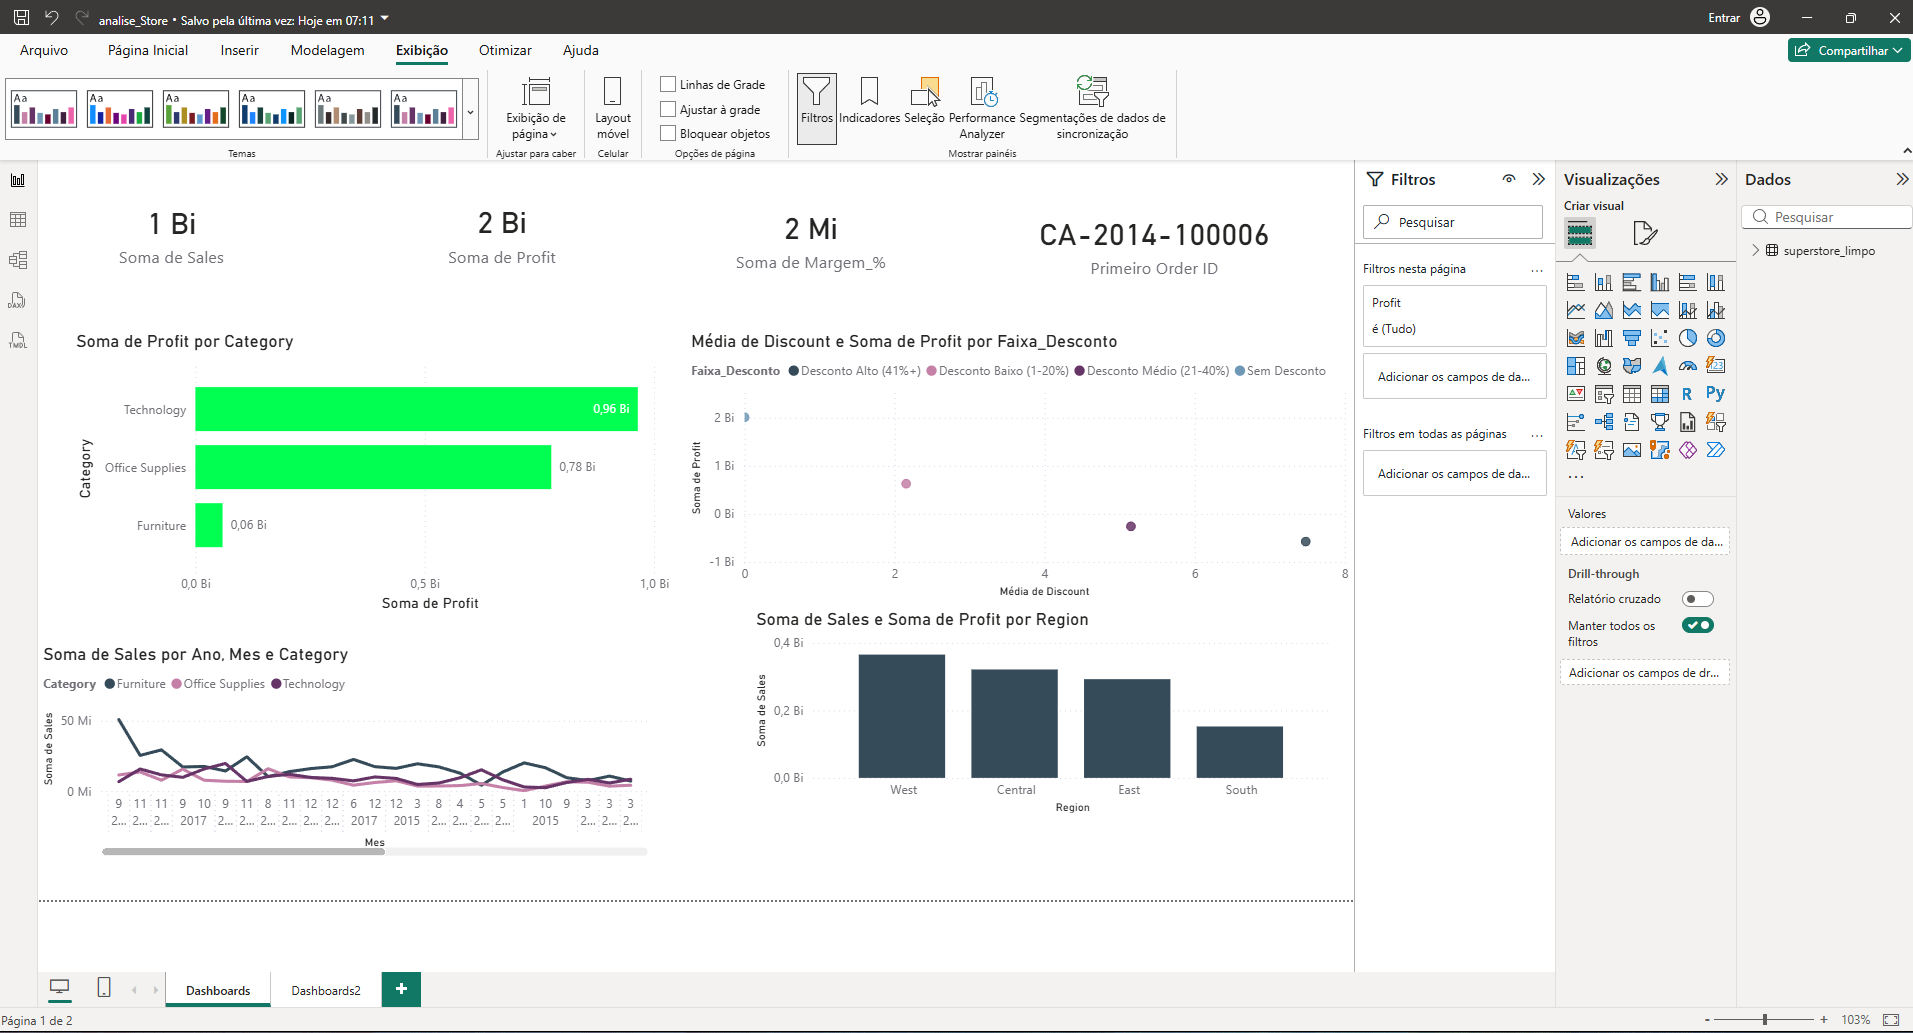

What the dashboard file says about the page in this screenshot:
{"tool":"powerbi","page":{"name":"Dashboards","canvas":[1280,720],"ordinal":0},"visuals":[{"type":"card","fields":{"Values":["Sum(superstore_limpo.Sales)"]},"box":[0,0,259.7,140.1],"z":0},{"type":"card","fields":{"Values":["Sum(superstore_limpo.Profit)"]},"box":[338.5,5.8,225.7,127.4],"z":1000},{"type":"card","fields":{"Values":["Sum(superstore_limpo.Margem_%)"]},"box":[621.5,0,260.7,149.8],"z":2000},{"type":"card","fields":{"Values":["Min(superstore_limpo.Order ID)"]},"box":[955.1,5.8,261.6,149.8],"z":3000},{"type":"clusteredBarChart","fields":{"Category":["superstore_limpo.Category"],"Y":["Sum(superstore_limpo.Profit)"]},"box":[32.1,166.3,598.2,277.2],"z":4000},{"type":"columnChart","fields":{"Category":["superstore_limpo.Region"],"Y":["Sum(superstore_limpo.Sales)"]},"box":[693.5,436.7,570,203.3],"z":5000},{"type":"lineChart","fields":{"Category":["superstore_limpo.Ano","superstore_limpo.Mes"],"Y":["Sum(superstore_limpo.Sales)"],"Series":["superstore_limpo.Category"]},"box":[0,470.8,598.2,211.1],"z":6000},{"type":"scatterChart","fields":{"X":["superstore_limpo.Discount"],"Y":["Sum(superstore_limpo.Profit)"],"Series":["superstore_limpo.Faixa_Desconto"]},"box":[630.3,166.3,649.7,263.6],"z":7000}]}

Visuals, with their boxes on the page's 1280x720 design canvas (x1, y1, x2, y2). These are canvas units, not pixel positions in the 1913x1033 screenshot, which may show the page scaled, cropped or inside an application window:
card - Sum(superstore_limpo.Sales): 0:0:260:140
card - Sum(superstore_limpo.Profit): 338:6:564:133
card - Sum(superstore_limpo.Margem_%): 622:0:882:150
card - Min(superstore_limpo.Order ID): 955:6:1217:156
clusteredBarChart - superstore_limpo.Category x Sum(superstore_limpo.Profit): 32:166:630:444
columnChart - superstore_limpo.Region x Sum(superstore_limpo.Sales): 694:437:1264:640
lineChart - superstore_limpo.Ano x superstore_limpo.Mes: 0:471:598:682
scatterChart - superstore_limpo.Discount x Sum(superstore_limpo.Profit): 630:166:1280:430
